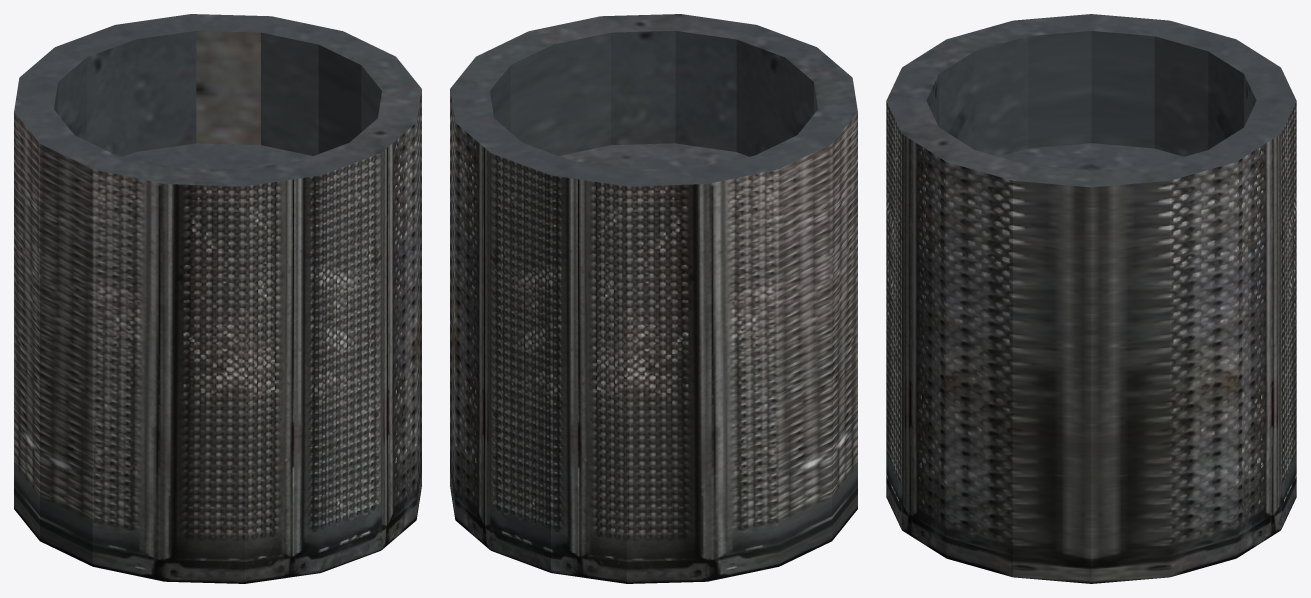
File: Blender_LowPolyBarrel2.fbx
The picture shows the model from 3 angles, left to right: view 1: azimuth 30°, elevation 25°; view 2: azimuth 150°, elevation 25°; view 3: azimuth 270°, elevation 25°; orthographic projection.
Visible parts, largest first — view 1: Cylinder; view 2: Cylinder; view 3: Cylinder.
Boxes of the visible parts, <box> form: Cylinder: <box>14,14,421,583</box>; Cylinder: <box>450,14,857,583</box>; Cylinder: <box>886,14,1296,583</box>.
Bounding box in the file's own units: 120 × 128 × 120.
